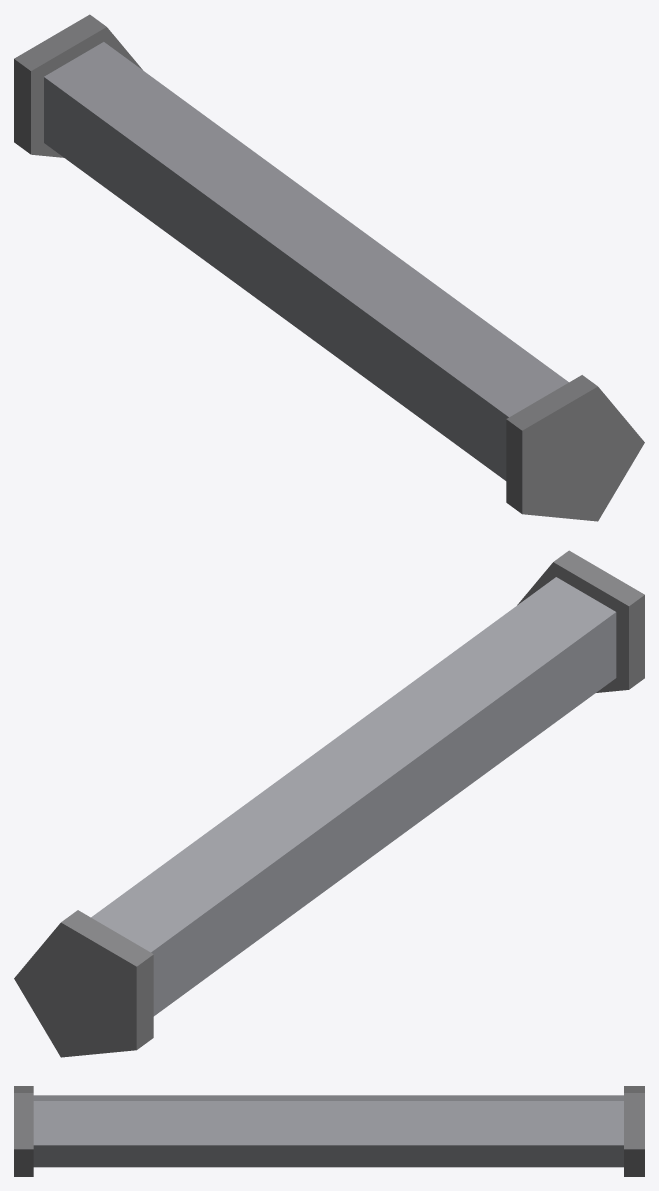
File: TuberiaChica_Recta.fbx
3 views of the same model, one above another, from view 1: azimuth 30°, elevation 25°; view 2: azimuth 150°, elevation 25°; view 3: azimuth 270°, elevation 25° (orthographic). The views are drawn at different scales.
Parts seen in each view (by area): view 1: TuberiaLargaHorizontal; view 2: TuberiaLargaHorizontal; view 3: TuberiaLargaHorizontal.
Part boxes in pixels (left/top/right/bottom): TuberiaLargaHorizontal: left=14, top=14, right=644, bottom=521; TuberiaLargaHorizontal: left=14, top=550, right=644, bottom=1057; TuberiaLargaHorizontal: left=14, top=1086, right=644, bottom=1176.
Bounding box in the file's own units: 0.3698 × 0.3888 × 2.65.
